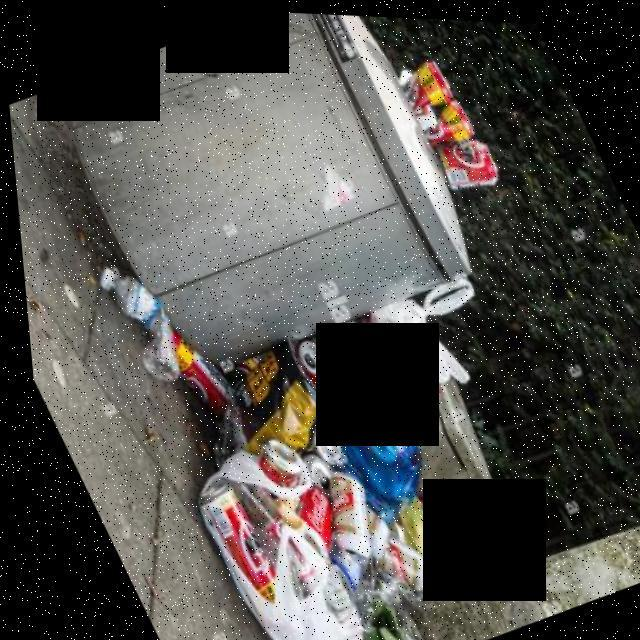bin: (11, 0, 514, 409)
